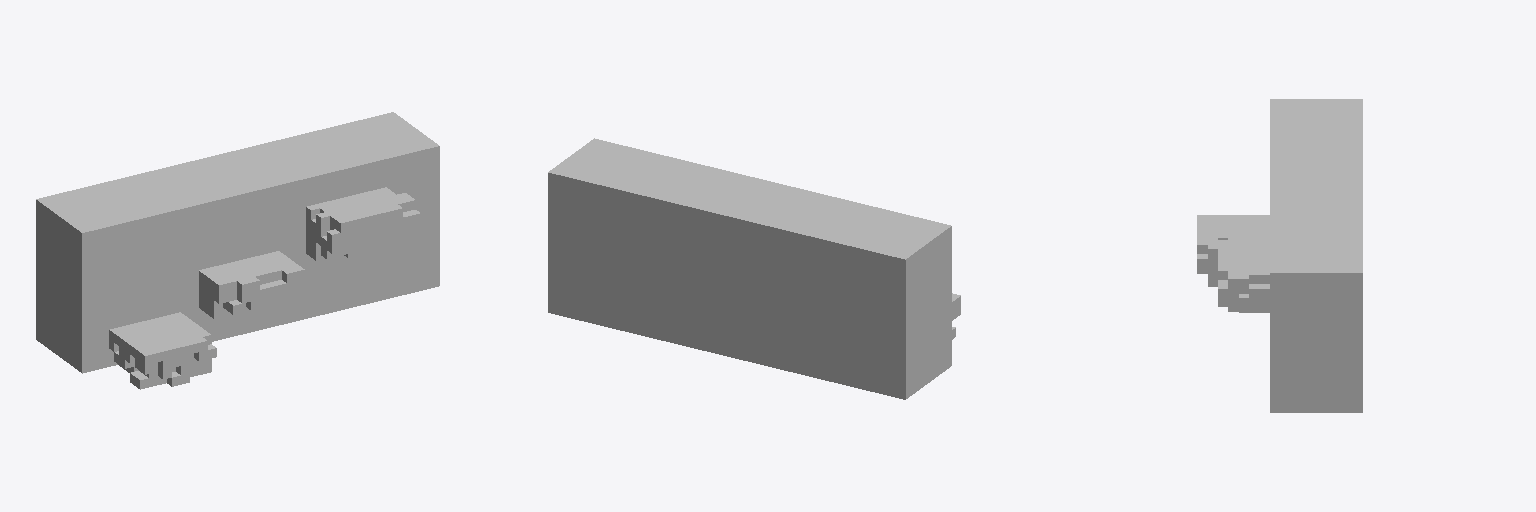
Rendered from rock.obj.
3 renders of one model, left to right at view 1: azimuth 30°, elevation 25°; view 2: azimuth 150°, elevation 25°; view 3: azimuth 270°, elevation 25°, orthographic.
Parts seen in each view (by area): view 1: object 1; view 2: object 1; view 3: object 1.
Part boxes in pixels (left/top/right/bottom): object 1: left=36, top=112, right=439, bottom=389; object 1: left=548, top=138, right=960, bottom=399; object 1: left=1197, top=99, right=1362, bottom=412.
Bounding box in the file's own units: 8 × 3 × 3.2.